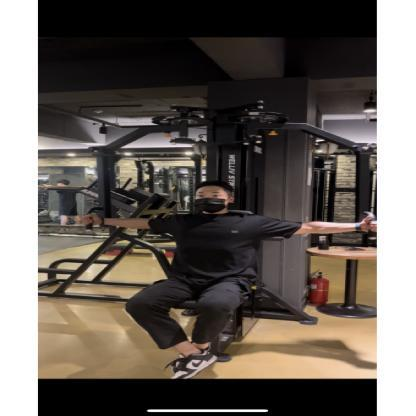chest fly machine: (54, 95, 377, 381)
